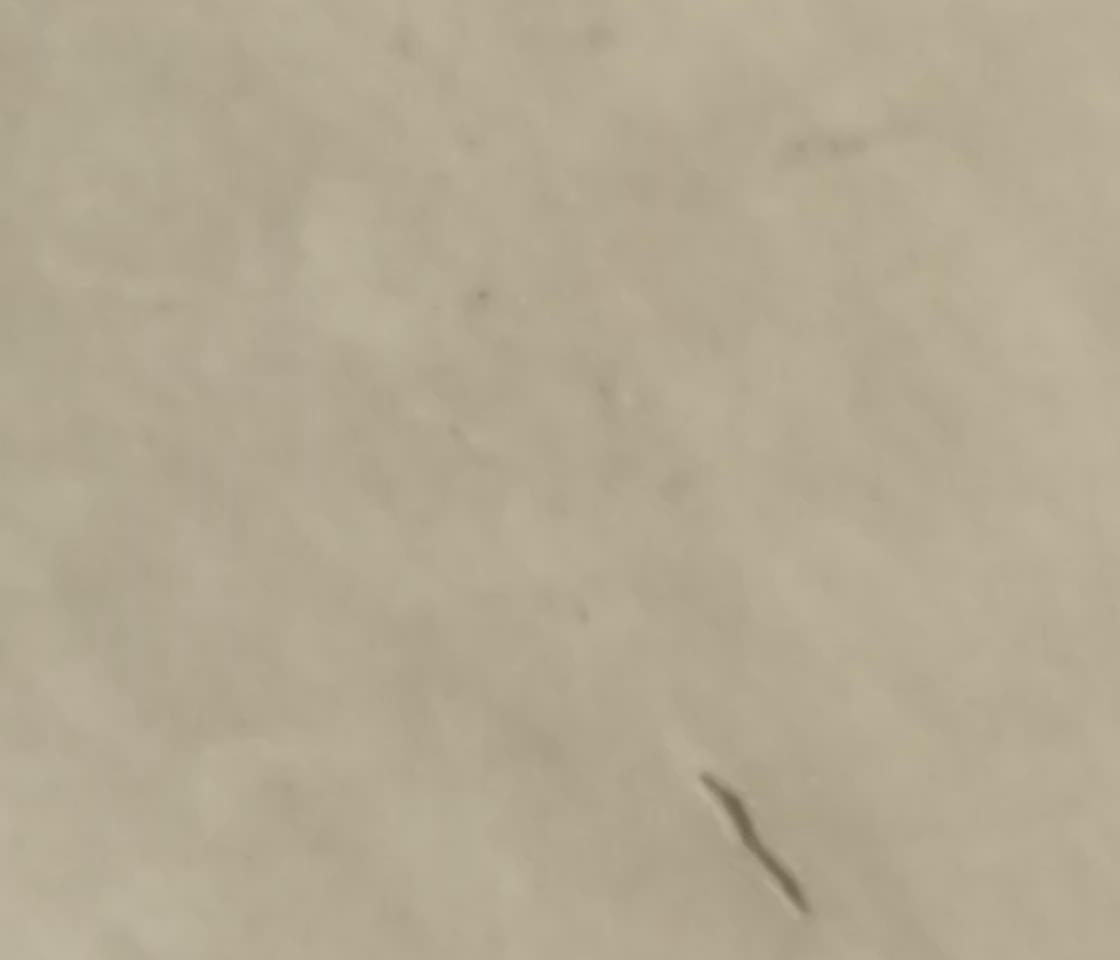scratch: (696, 764, 815, 932)
